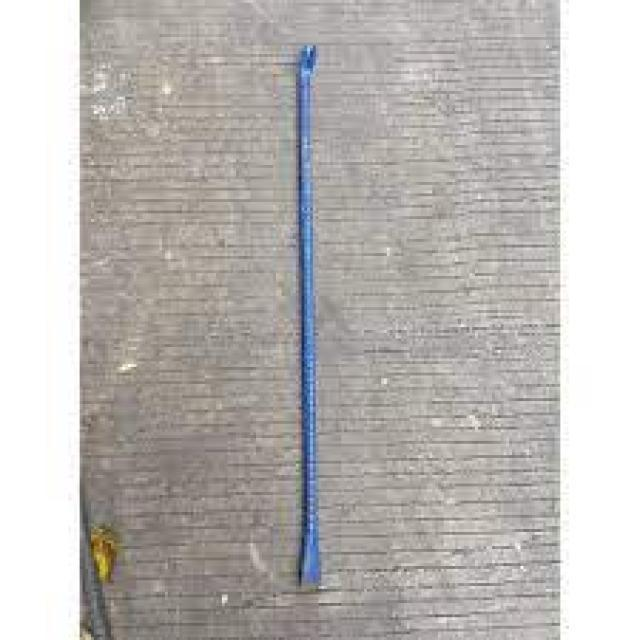Linggis: (281, 38, 342, 594)
